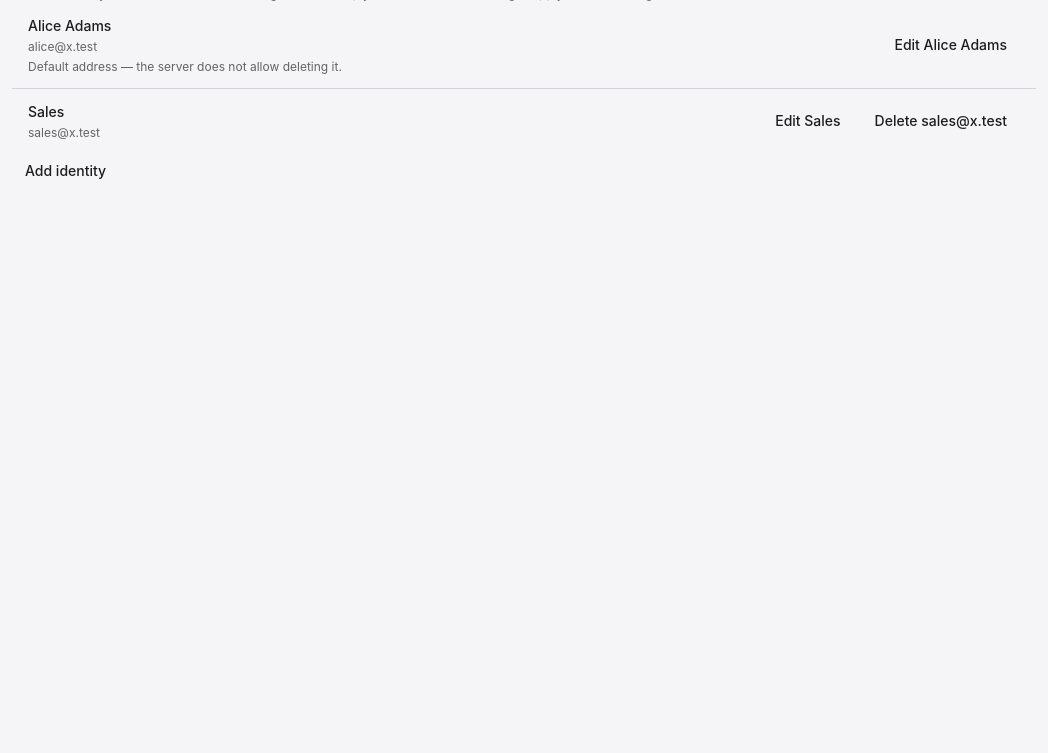
Test: <IdentitiesSection> › creates from an empty, EDITABLE address field
Click the button "Add identity": (66, 171) top-left (12, 154), bottom-right (119, 188)
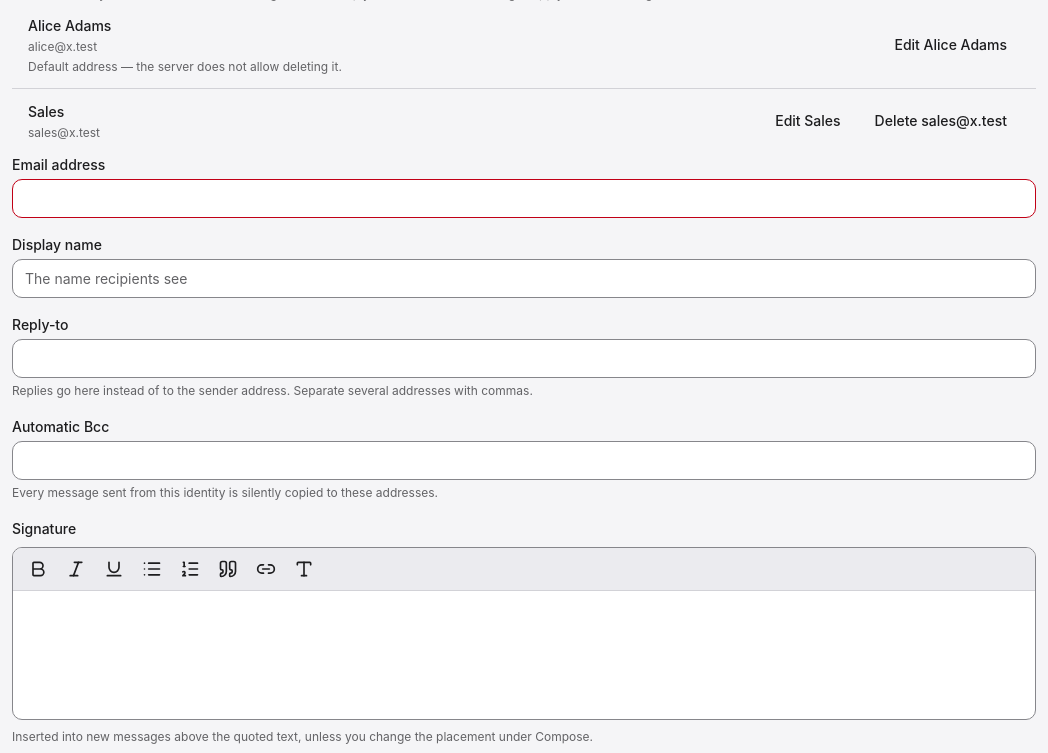
expect the button named "Bold" is enabled: met, box top-left (21, 552), bottom-right (55, 586)
In the field labelled "Email address": (524, 198) top-left (12, 179), bottom-right (1036, 218), type "new@x.test"
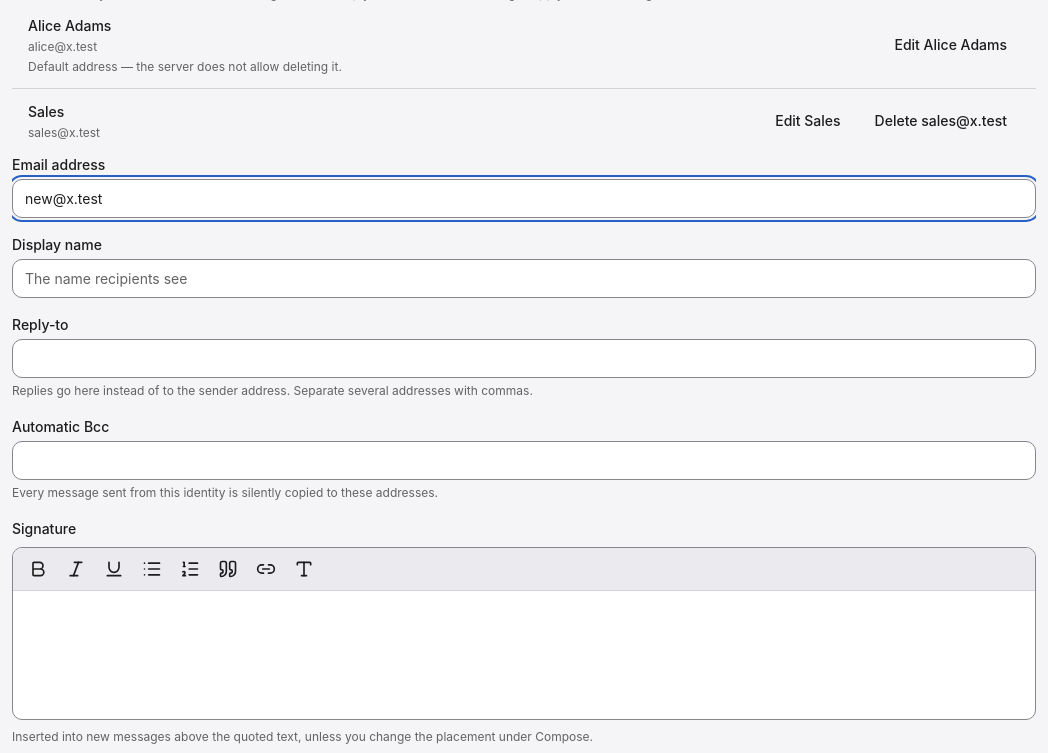
In the field labelled "Display name": (524, 278) top-left (12, 259), bottom-right (1036, 298), type "New One"
(page scrolled)
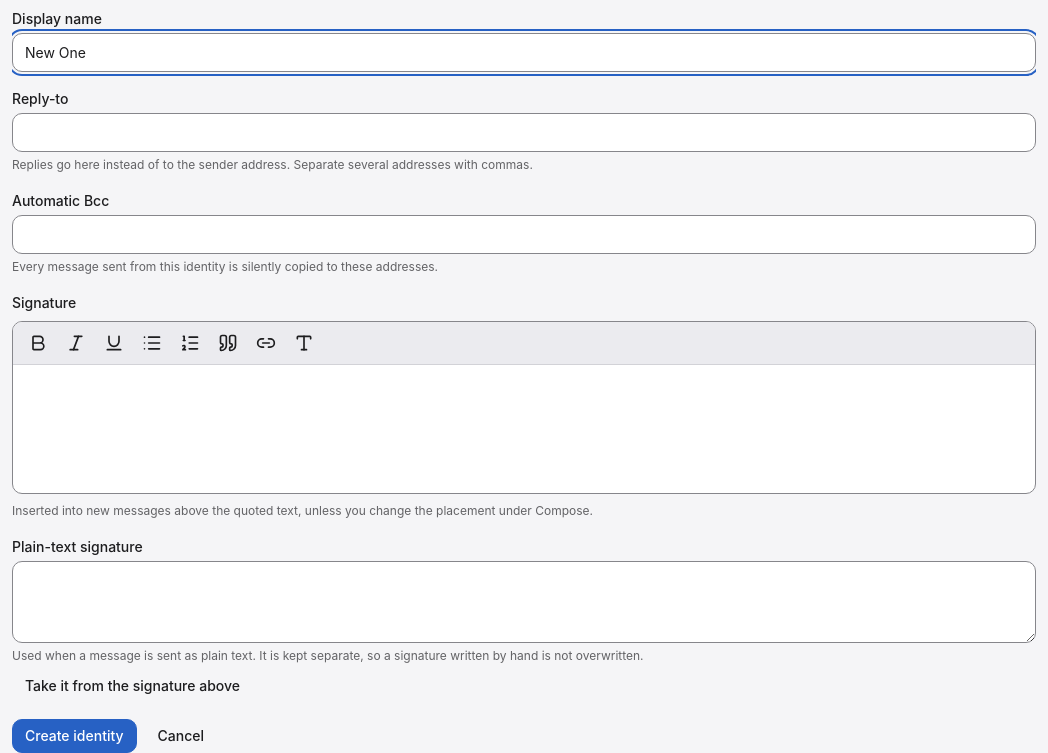
Click the button "Create identity": (74, 736) top-left (12, 719), bottom-right (136, 752)
(page scrolled)
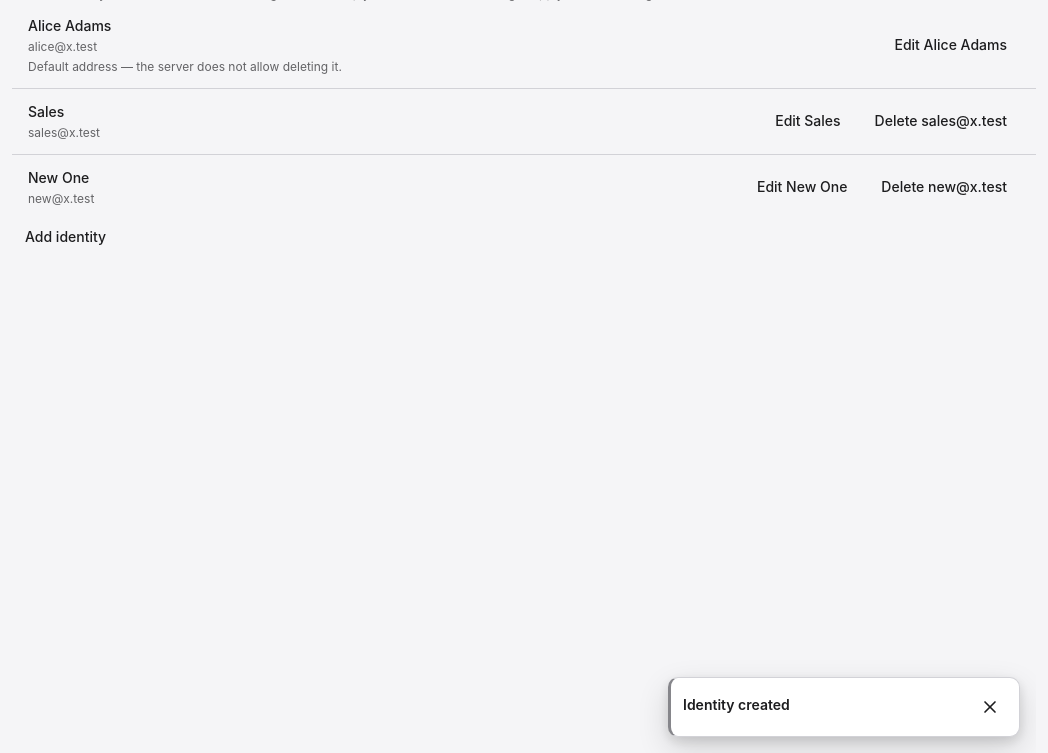
expect the text "Identity created" is shown: met, box top-left (683, 696), bottom-right (790, 713)
